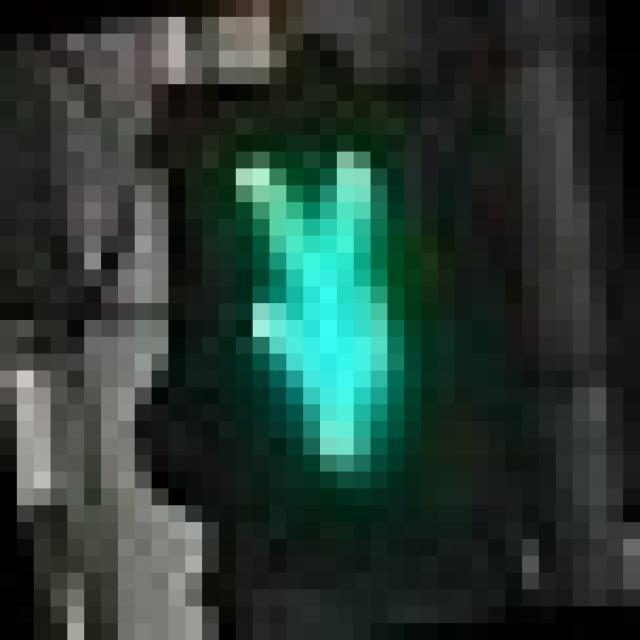geen-crossing: (84, 50, 505, 522)
